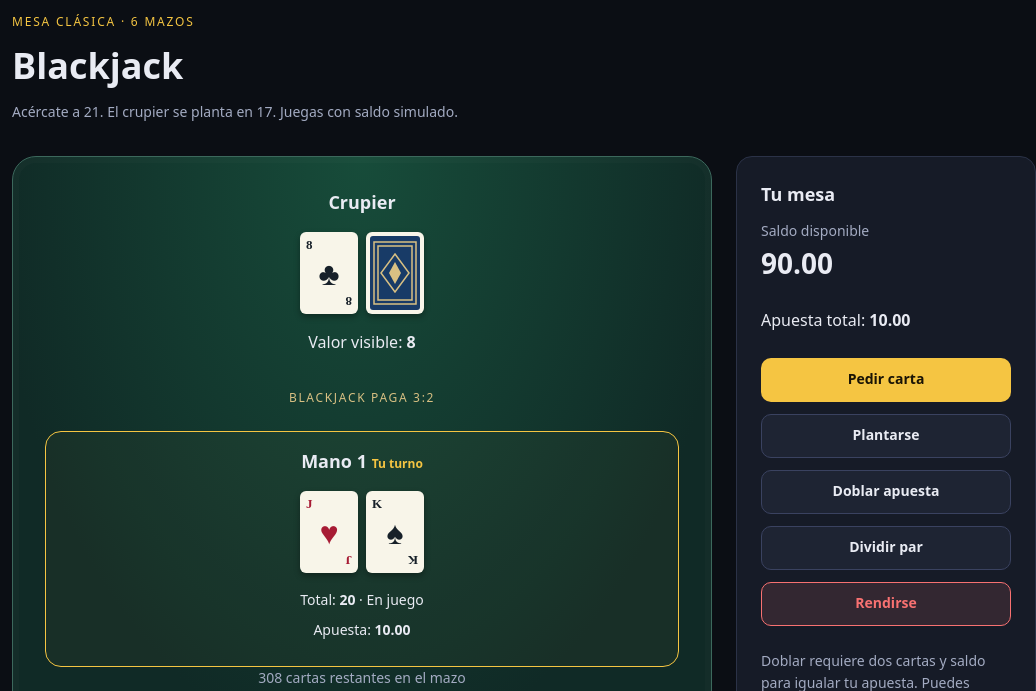
Test: mantiene bloqueo ante operación no confirmada y recupera la clave exacta sin repetir POST
The width and height of the screenshot is (1036, 691).
Click the button "Pedir carta": (886, 380) [761, 358, 1011, 402]
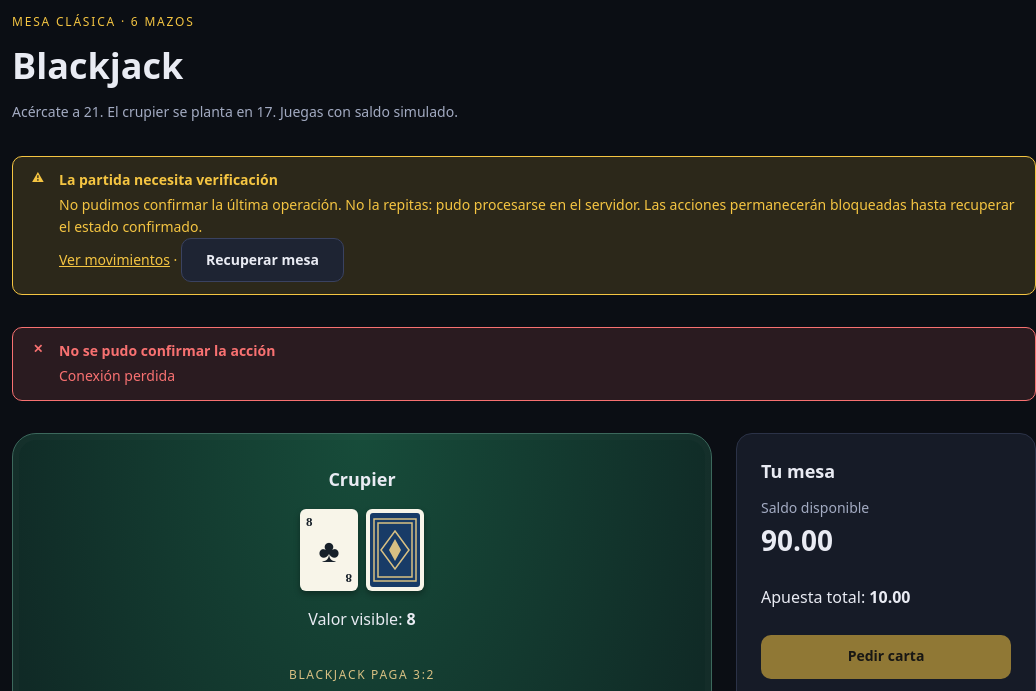
Expected: the text "La partida necesita verificación" is shown, [59, 170, 278, 189]
Expected: the button "Pedir carta" is disabled, [761, 635, 1011, 679]
Click the button "Recuperar mesa": (262, 260) [181, 238, 344, 282]
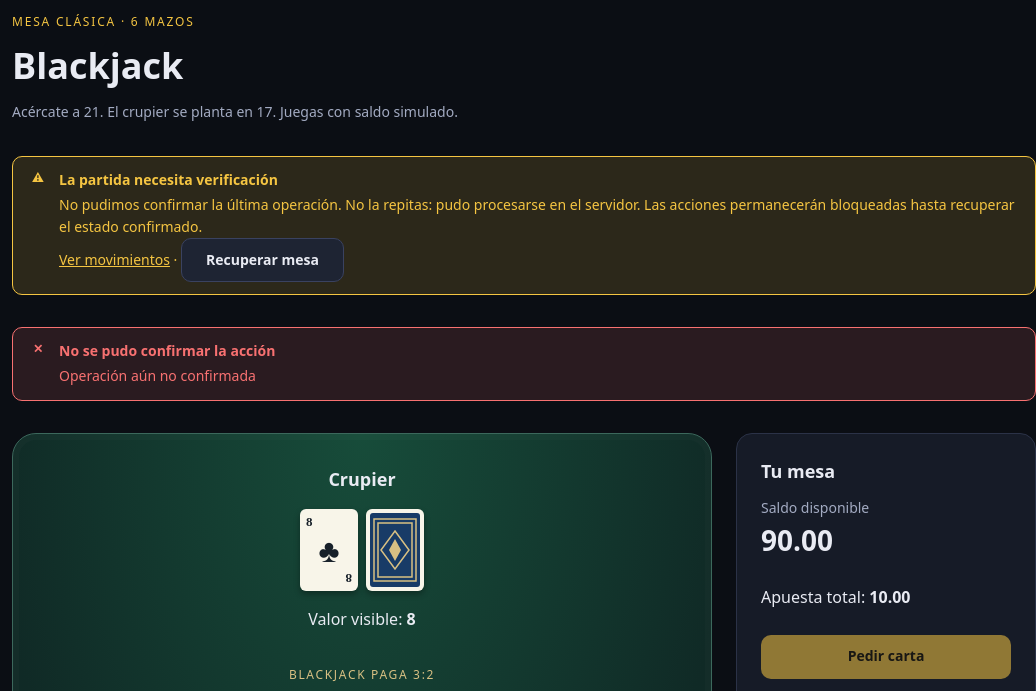
Expected: the button "Pedir carta" is disabled, [761, 635, 1011, 679]
Expected: the text "Operación aún no confirmada" is shown, [59, 365, 276, 388]
Click the button "Recuperar mesa": (262, 260) [181, 238, 344, 282]
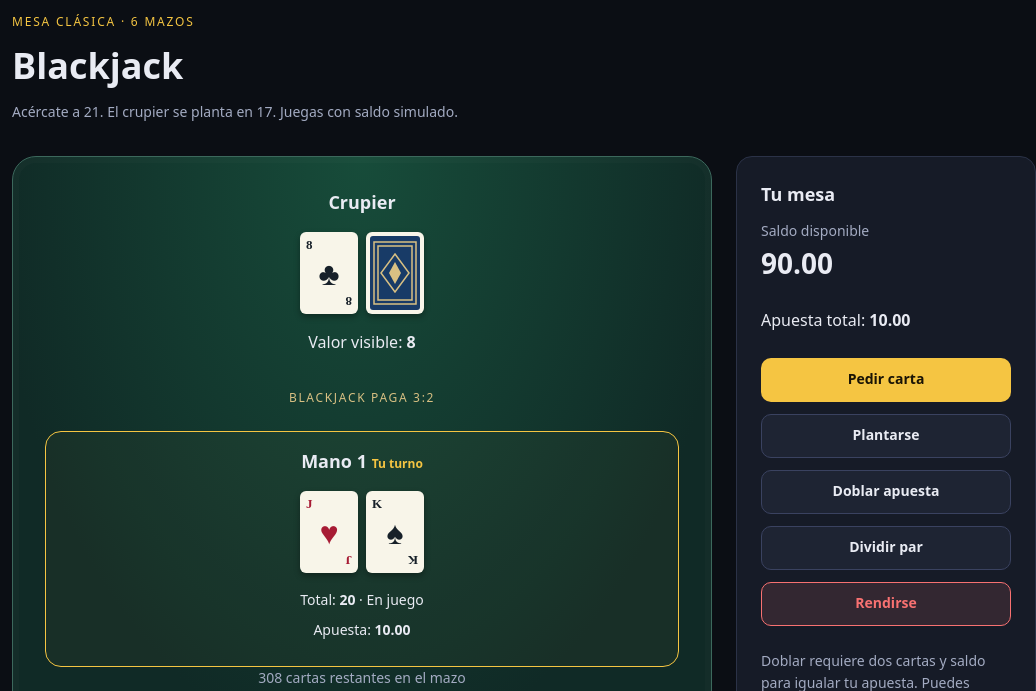
Expected: the button "Pedir carta" is enabled, [761, 358, 1011, 402]
